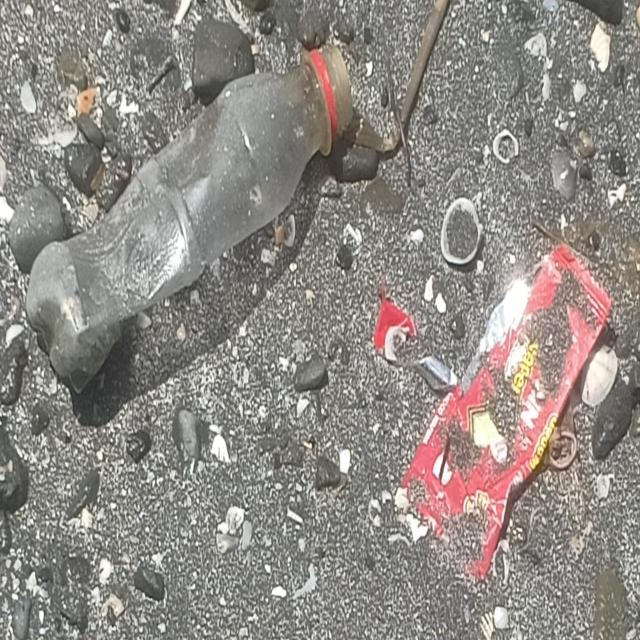plastic_waste: (25, 41, 356, 398), (373, 242, 615, 587)
